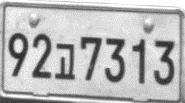1: (131, 38, 147, 85)
2: (30, 32, 52, 79)
3: (152, 40, 175, 85), (103, 37, 125, 83)
7: (79, 35, 103, 82)
9: (7, 31, 29, 77)
고: (54, 42, 77, 81)
